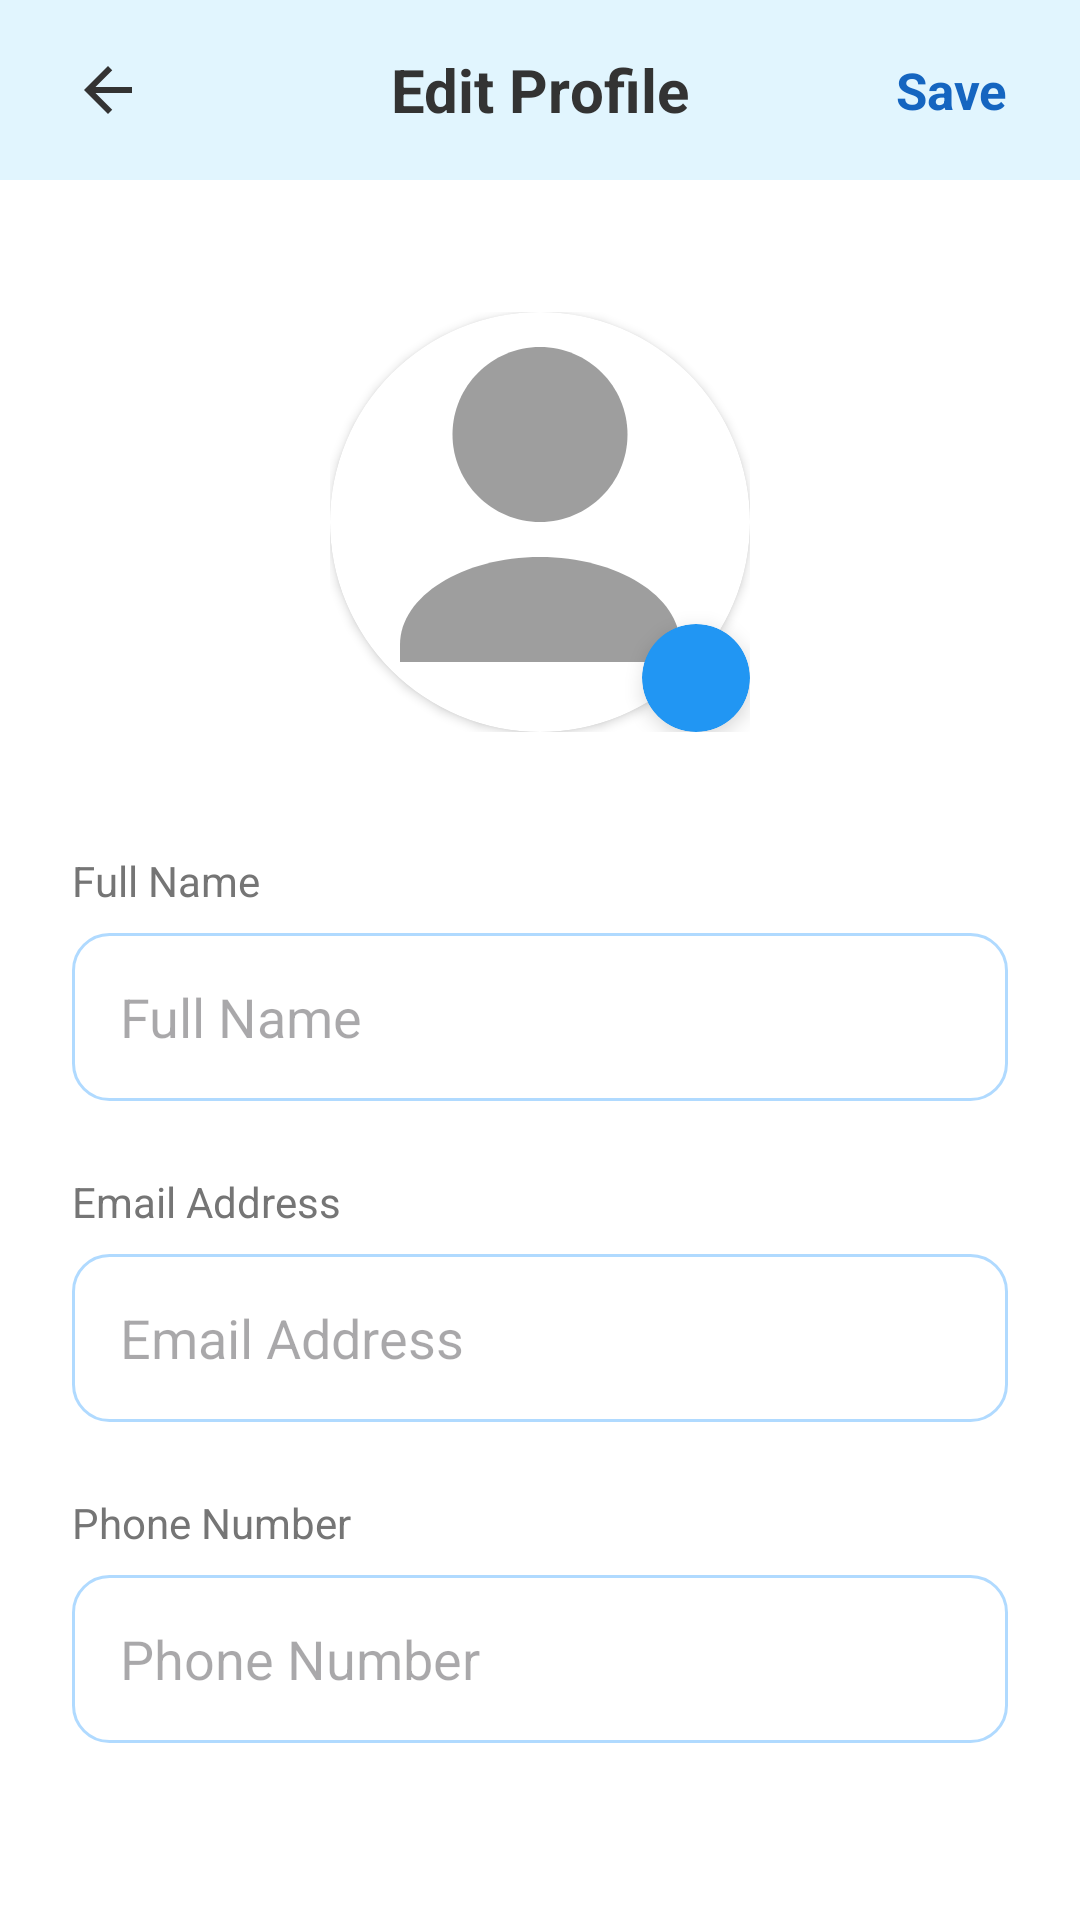

Named icons in this screenshot (1080px×1920px) and their bounding boxes, [left=x1, top=y1, right=x2, bottom=y2]:
back: [left=84, top=66, right=132, bottom=114]
